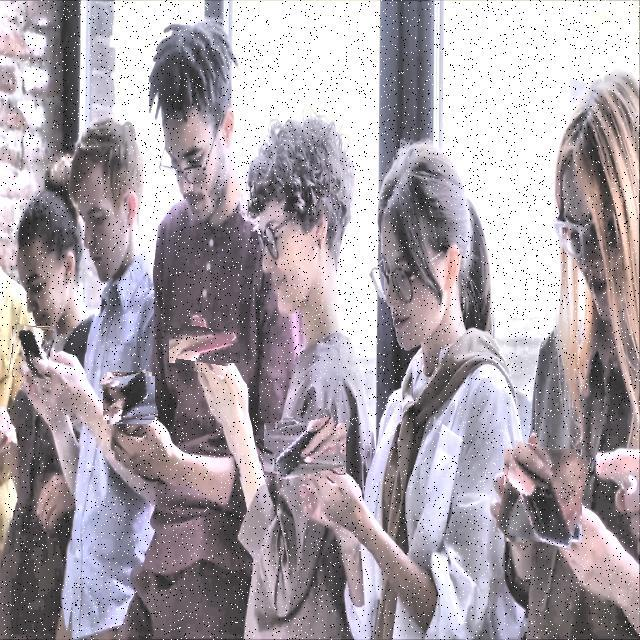Phone: (498, 444, 587, 546), (268, 412, 342, 486), (176, 318, 233, 374), (103, 372, 156, 424), (10, 325, 52, 378)
